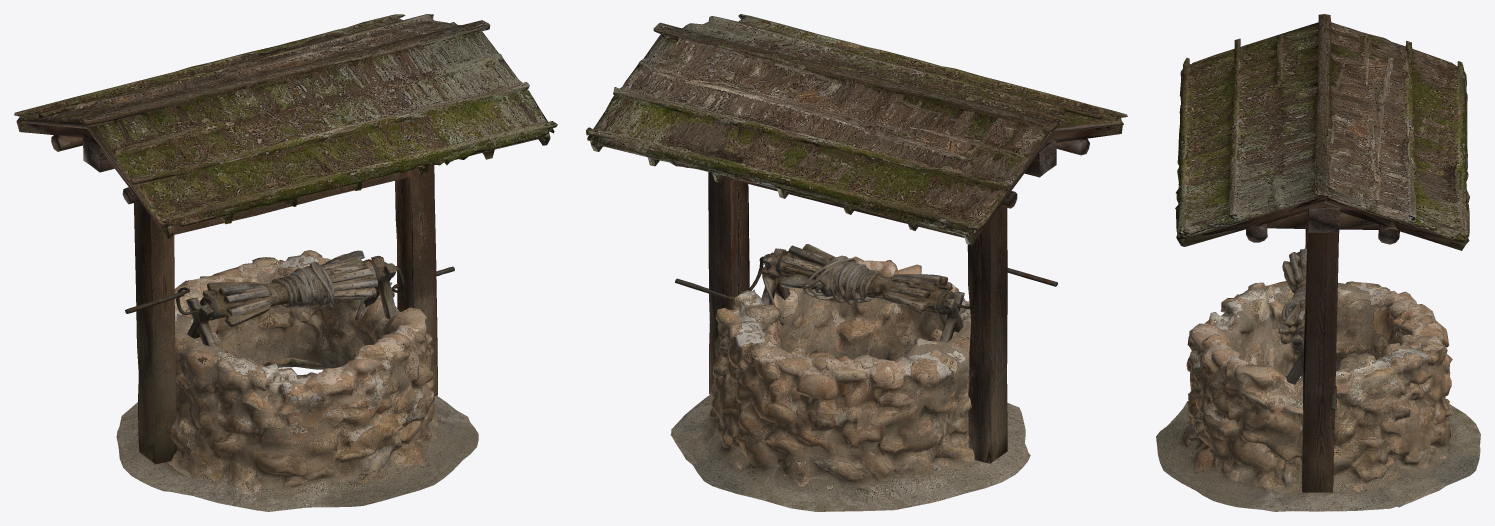
File: well.glb
3 renders of one model, left to right at view 1: azimuth 30°, elevation 25°; view 2: azimuth 150°, elevation 25°; view 3: azimuth 270°, elevation 25°, orthographic. The views are drawn at different scales.
Parts seen in each view (by area): view 1: well_S_Japanese_Wooden_Well_Roof_ui2jbif_lod3_LOD0, well_S_Old_Stone_Well_ufhoagrfa_lod3_Var1_LOD0, well_S_Old_Well_Crank_ugcicbhga_lod3_Var1_LOD0; view 2: well_S_Japanese_Wooden_Well_Roof_ui2jbif_lod3_LOD0, well_S_Old_Stone_Well_ufhoagrfa_lod3_Var1_LOD0, well_S_Old_Well_Crank_ugcicbhga_lod3_Var1_LOD0; view 3: well_S_Japanese_Wooden_Well_Roof_ui2jbif_lod3_LOD0, well_S_Old_Stone_Well_ufhoagrfa_lod3_Var1_LOD0, well_S_Old_Well_Crank_ugcicbhga_lod3_Var1_LOD0.
Boxes of the visible parts, box(x1,y1,x2,y2) form: well_S_Japanese_Wooden_Well_Roof_ui2jbif_lod3_LOD0: box(14, 14, 557, 464); well_S_Old_Stone_Well_ufhoagrfa_lod3_Var1_LOD0: box(116, 250, 478, 511); well_S_Old_Well_Crank_ugcicbhga_lod3_Var1_LOD0: box(125, 250, 454, 346); well_S_Japanese_Wooden_Well_Roof_ui2jbif_lod3_LOD0: box(586, 14, 1127, 463); well_S_Old_Stone_Well_ufhoagrfa_lod3_Var1_LOD0: box(670, 256, 1030, 511); well_S_Old_Well_Crank_ugcicbhga_lod3_Var1_LOD0: box(675, 244, 1057, 342); well_S_Japanese_Wooden_Well_Roof_ui2jbif_lod3_LOD0: box(1175, 14, 1469, 492); well_S_Old_Stone_Well_ufhoagrfa_lod3_Var1_LOD0: box(1156, 281, 1480, 511); well_S_Old_Well_Crank_ugcicbhga_lod3_Var1_LOD0: box(1278, 248, 1336, 410).
Size of the model in its own units: 4.69 by 4.1 by 3.56.
Materials: 3 (3 with a texture image).
